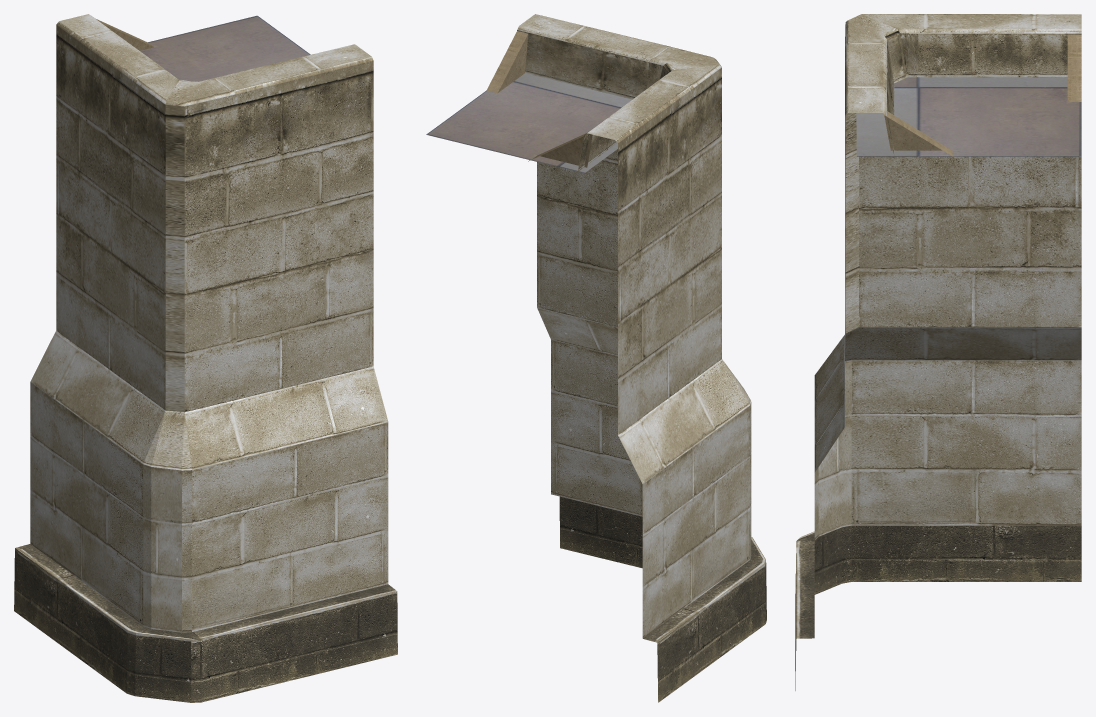
The model's file is castle-edge-2.fbx.
The picture shows the model from 3 angles, left to right: view 1: azimuth 30°, elevation 25°; view 2: azimuth 150°, elevation 25°; view 3: azimuth 270°, elevation 25°; orthographic projection. The views are drawn at different scales.
Parts seen in each view (by area): view 1: castle-edge-2; view 2: castle-edge-2; view 3: castle-edge-2.
Part boxes in pixels (x1,y1,x2,y2): castle-edge-2: [14, 14, 397, 702]; castle-edge-2: [426, 14, 766, 702]; castle-edge-2: [795, 14, 1081, 690].
Size of the model in its own units: 176 by 400 by 176.
